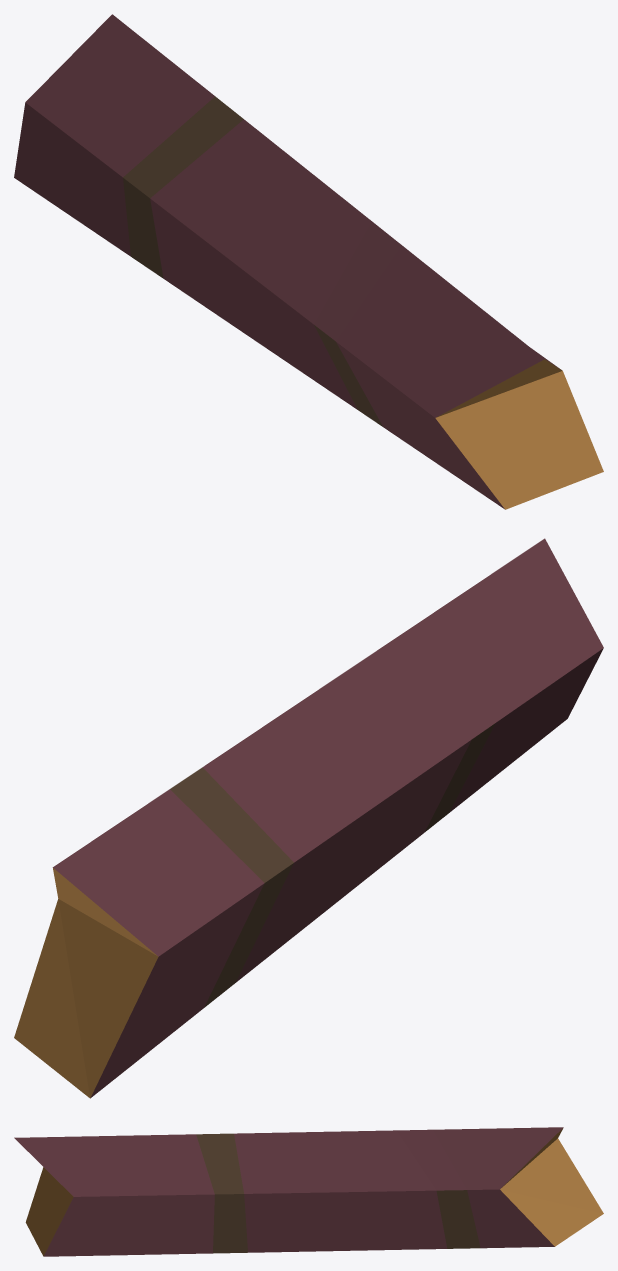
File: tree-birch-debris-a.fbx
3 views of the same model, one above another, from view 1: azimuth 30°, elevation 25°; view 2: azimuth 150°, elevation 25°; view 3: azimuth 270°, elevation 25° (orthographic). The views are drawn at different scales.
Parts seen in each view (by area): view 1: tree-birch-debris-a; view 2: tree-birch-debris-a; view 3: tree-birch-debris-a.
Part boxes in pixels (x1,y1,x2,y2): tree-birch-debris-a: (14, 14, 603, 509); tree-birch-debris-a: (14, 538, 603, 1098); tree-birch-debris-a: (14, 1127, 603, 1256).
Size of the model in its own units: 0.3176 by 0.3114 by 1.56.
